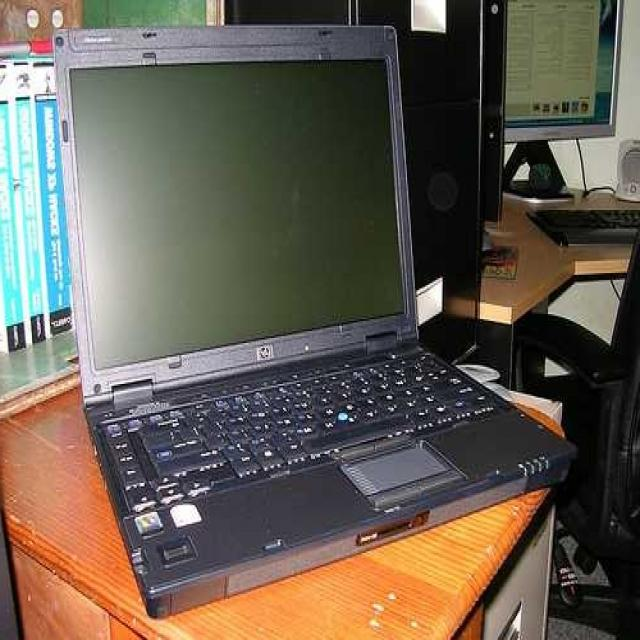laptop: (52, 24, 524, 607)
